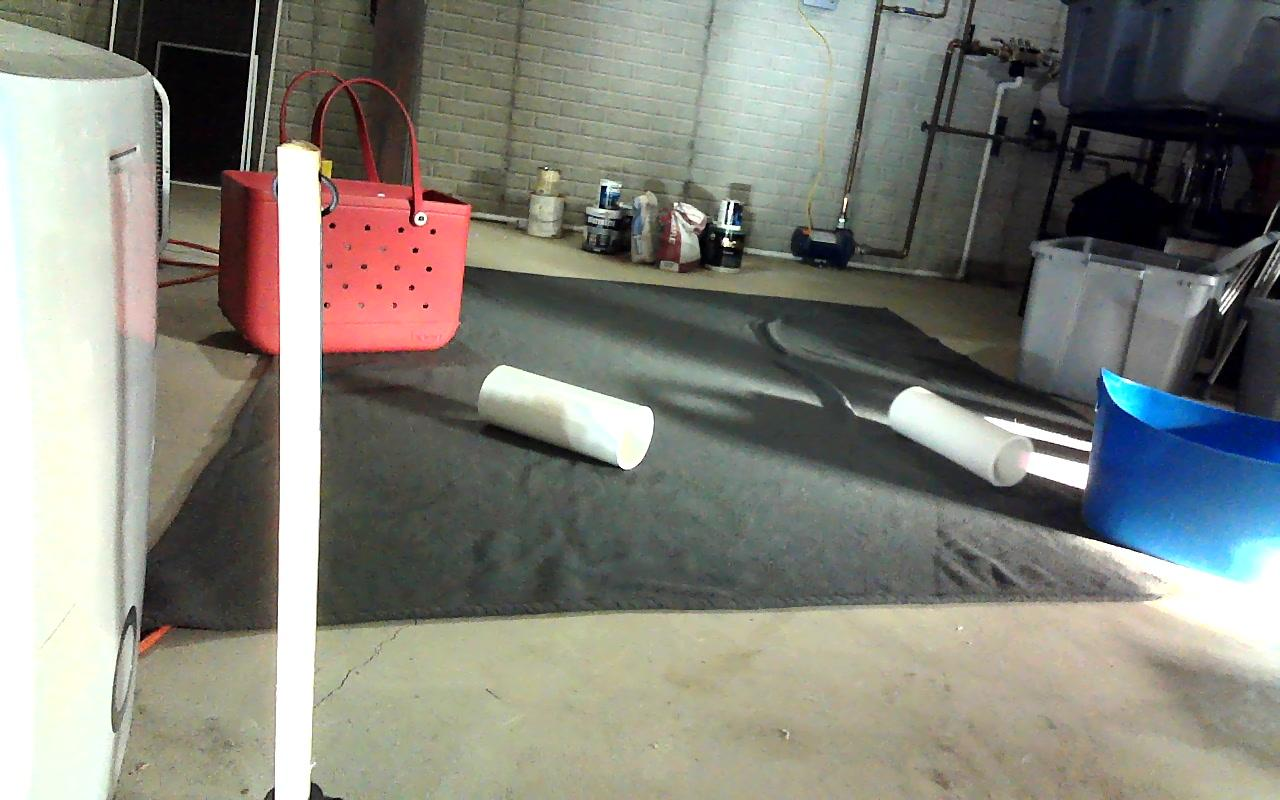coral: (479, 365, 654, 469), (888, 385, 1028, 486)
